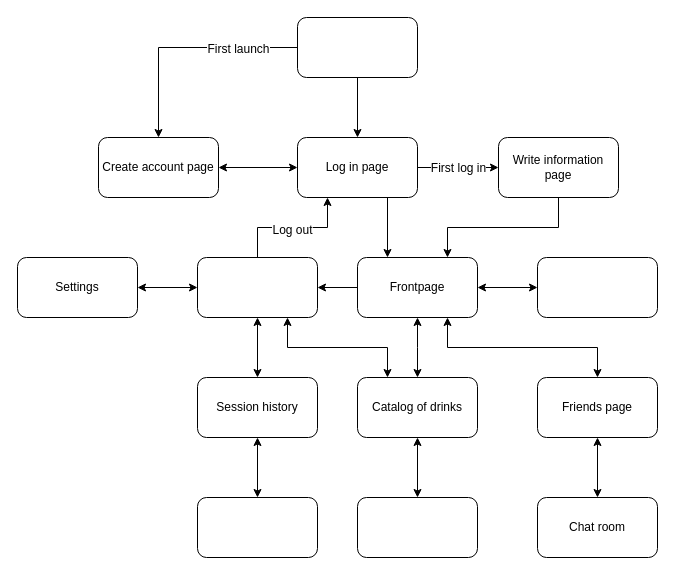
This 675x575 diagram has some shape labels left out. Here are the shapes that lost their labels. From the top down, the box of each, then its label:
(296, 16, 418, 78): Splash Screen
(196, 256, 318, 318): Menu
(536, 256, 658, 318): Map
(196, 496, 318, 558): Session w/ statistics
(356, 496, 478, 558): Inspect drink
